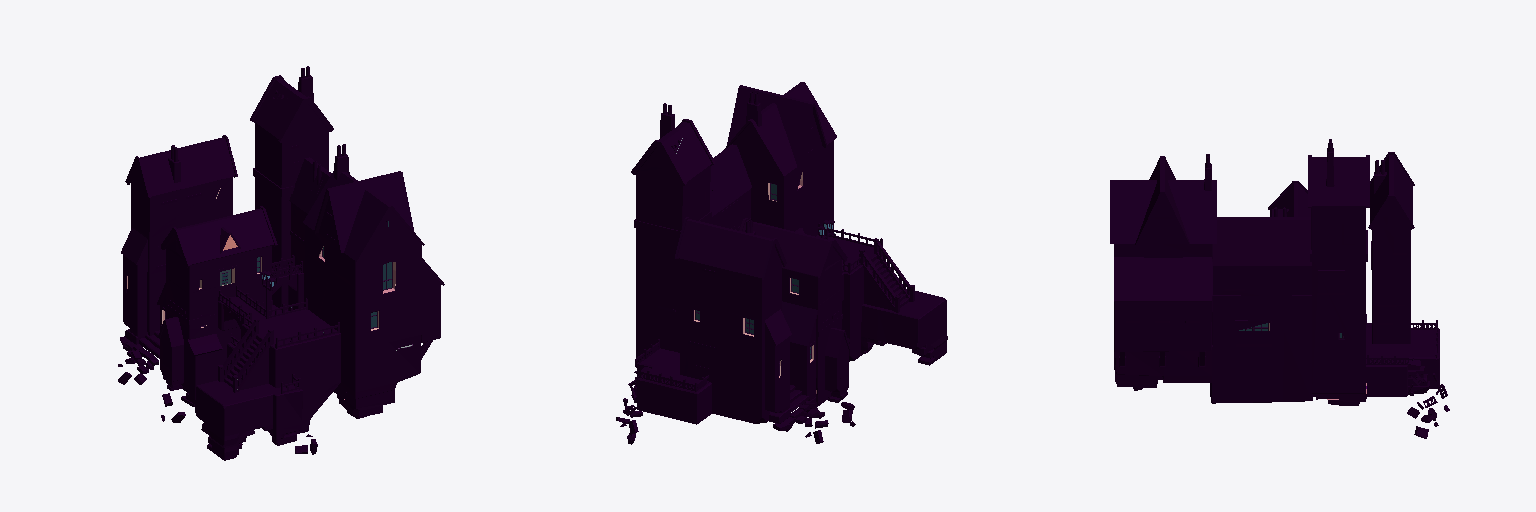
The picture shows the model from 3 angles: view 1: azimuth 30°, elevation 25°; view 2: azimuth 150°, elevation 25°; view 3: azimuth 270°, elevation 25°; orthographic projection.
Visible parts, largest first — view 1: Roof.001_Cube.022, Base.003_Cube.004, Base.007_Cube.008, Base.006_Cube.007, Base.001_Cube.002, Base.005_Cube.006, Base.002_Cube.003, Deco_Cube.001, Deco.001_Cube.012, Bridge.001_Cube.010, Stones_Cube.055, Stones.001_Cube.009 (+4 smaller); view 2: Roof.001_Cube.022, Base.006_Cube.007, Base.005_Cube.006, Base.003_Cube.004, Base.007_Cube.008, Base.001_Cube.002, Platform_Cube, Base.002_Cube.003, Deco.001_Cube.012, Deco_Cube.001, Stones_Cube.055, Base.004_Cube.005 (+3 smaller); view 3: Roof.001_Cube.022, Base.004_Cube.005, Base.003_Cube.004, Base.005_Cube.006, Base.006_Cube.007, Platform_Cube, Deco_wind.001_Cube.021, Deco_Cube.001, Deco_wind_Cube.036, Pipes.001_Cube.126, Stones.001_Cube.009.
Boxes of the visible parts, box(x1,y1,x2,y2) form: Roof.001_Cube.022: box(121, 75, 444, 356); Base.003_Cube.004: box(306, 199, 440, 398); Base.007_Cube.008: box(160, 236, 271, 399); Base.006_Cube.007: box(123, 166, 232, 344); Base.001_Cube.002: box(195, 380, 302, 460); Base.005_Cube.006: box(255, 104, 328, 309); Base.002_Cube.003: box(241, 309, 340, 435); Deco_Cube.001: box(218, 255, 339, 393); Deco.001_Cube.012: box(218, 318, 273, 392); Bridge.001_Cube.010: box(218, 268, 303, 330); Stones_Cube.055: box(118, 336, 317, 454); Stones.001_Cube.009: box(333, 387, 394, 418); Roof.001_Cube.022: box(631, 82, 850, 358); Base.006_Cube.007: box(680, 248, 790, 423); Base.005_Cube.006: box(636, 147, 709, 357); Base.003_Cube.004: box(731, 112, 833, 236); Base.007_Cube.008: box(782, 248, 848, 404); Base.001_Cube.002: box(861, 291, 947, 365); Platform_Cube: box(637, 348, 711, 424); Base.002_Cube.003: box(816, 235, 882, 361); Deco.001_Cube.012: box(859, 238, 914, 312); Deco_Cube.001: box(623, 220, 882, 415); Stones_Cube.055: box(616, 402, 855, 444); Base.004_Cube.005: box(710, 189, 750, 229); Roof.001_Cube.022: box(1110, 152, 1414, 301); Base.004_Cube.005: box(1211, 266, 1312, 403); Base.003_Cube.004: box(1114, 194, 1212, 382); Base.005_Cube.006: box(1311, 206, 1365, 393); Base.006_Cube.007: box(1372, 201, 1410, 343); Platform_Cube: box(1210, 325, 1439, 396); Deco_wind.001_Cube.021: box(1213, 230, 1367, 299); Deco_Cube.001: box(1366, 320, 1447, 409); Deco_wind_Cube.036: box(1126, 217, 1406, 346); Pipes.001_Cube.126: box(1204, 148, 1386, 193); Stones.001_Cube.009: box(1115, 371, 1162, 387).
Bounding box in the file's own units: 21.98 × 29.98 × 30.52.
32 materials, 22 textured.